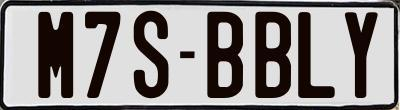7: (82, 10, 119, 102)
B: (206, 10, 247, 102), (253, 10, 291, 99)
L: (297, 12, 335, 102)
M: (38, 11, 74, 98)
S: (132, 8, 167, 98)
Y: (345, 10, 379, 98)
